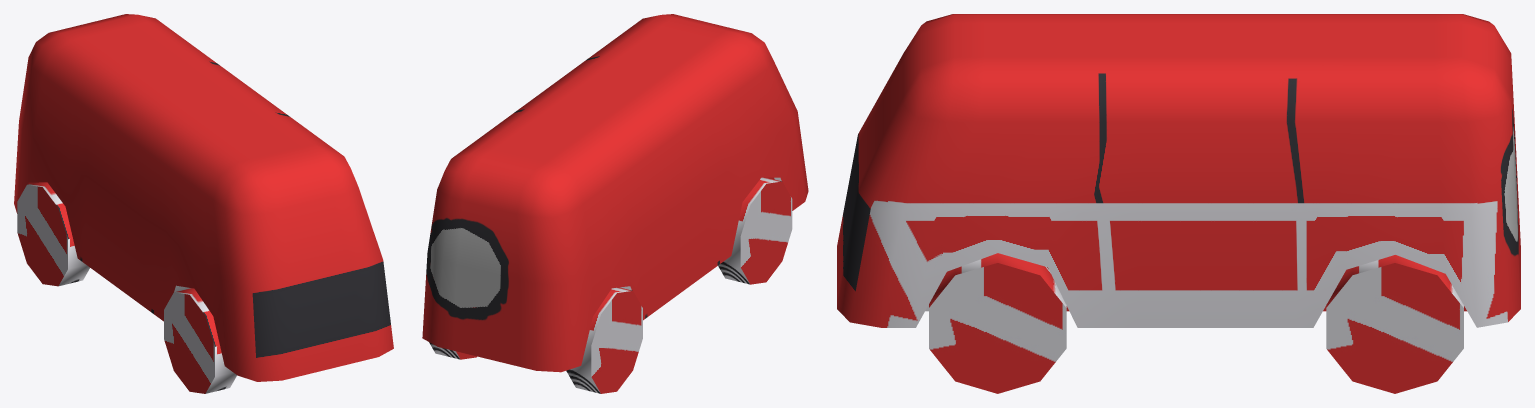
Rendered from VWBraud 2.fbx.
3 renders of one model, left to right at view 1: azimuth 30°, elevation 25°; view 2: azimuth 150°, elevation 25°; view 3: azimuth 270°, elevation 25°, orthographic. The views are drawn at different scales.
Visible parts, largest first — view 1: VWBraudShell, FRWheel, BRWheel; view 2: VWBraudShell, FRWheel, BRWheel; view 3: VWBraudShell, FLWheel, BLWheel.
Part boxes in pixels (left/top/right/bottom): VWBraudShell: left=14, top=14, right=393, bottom=381; FRWheel: left=164, top=288, right=236, bottom=393; BRWheel: left=17, top=182, right=89, bottom=286; VWBraudShell: left=422, top=14, right=808, bottom=372; FRWheel: left=718, top=177, right=792, bottom=284; BRWheel: left=566, top=287, right=642, bottom=393; VWBraudShell: left=837, top=14, right=1520, bottom=327; FLWheel: left=929, top=253, right=1066, bottom=393; BLWheel: left=1326, top=255, right=1463, bottom=393.
Bounding box in the file's own units: 142 × 184 × 380.
